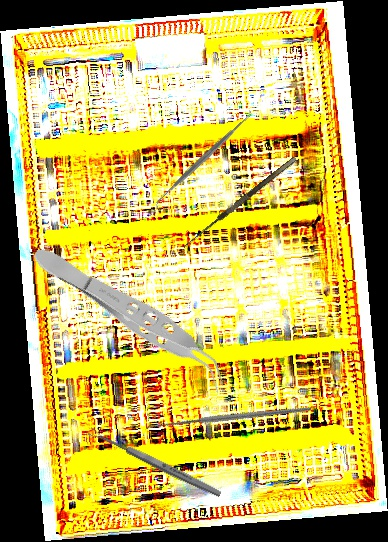Hook Surgical: (142, 349, 312, 494), (181, 156, 302, 255)
Spatula Surgical: (148, 107, 258, 212)
Surgical Spoon: (87, 426, 223, 499)
Tissue Forceps: (24, 236, 239, 395)
